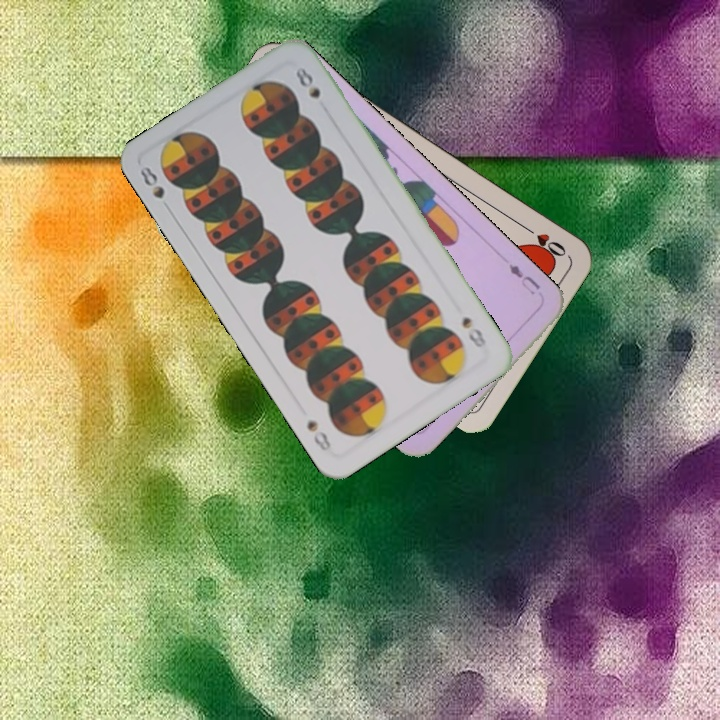EU: (504, 259, 544, 298)
HO: (518, 220, 569, 260)
S8: (133, 162, 174, 215), (457, 312, 489, 351)
